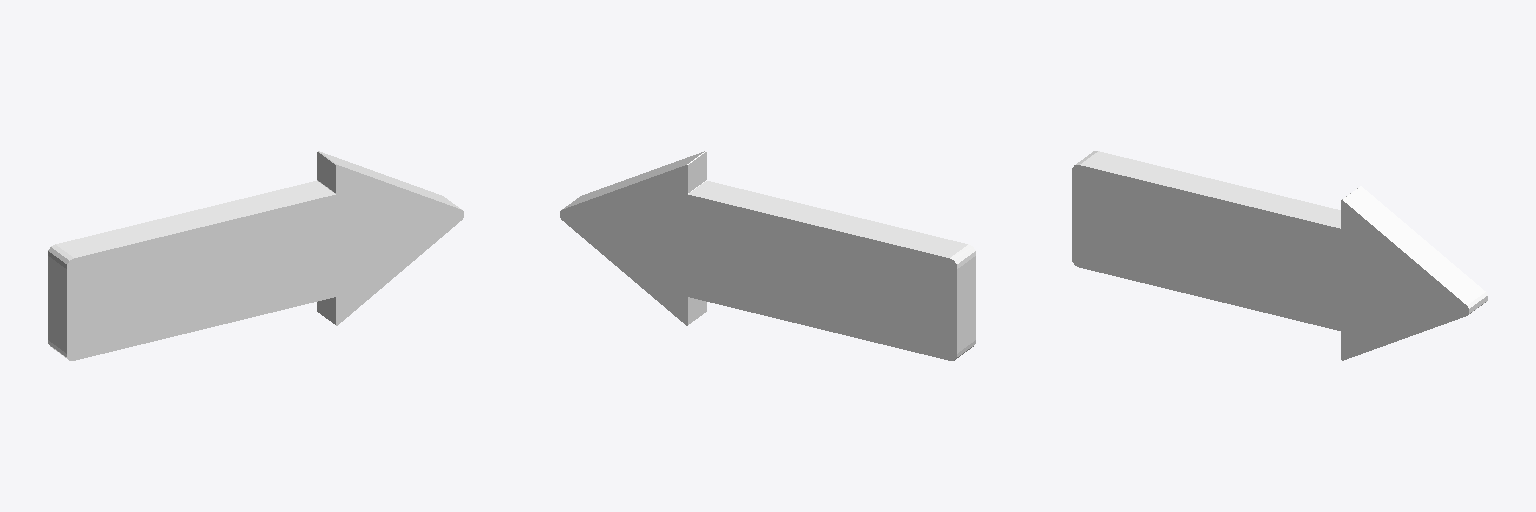
File: Arrow5.obj
The picture shows the model from 3 angles: view 1: azimuth 30°, elevation 25°; view 2: azimuth 150°, elevation 25°; view 3: azimuth 330°, elevation 25°; orthographic projection.
Parts seen in each view (by area): view 1: Arrow5; view 2: Arrow5; view 3: Arrow5.
Boxes of the visible parts, box(x1,y1,x2,y2) form: Arrow5: box(48, 151, 463, 360); Arrow5: box(560, 151, 975, 360); Arrow5: box(1072, 151, 1487, 360).
Bounding box in the file's own units: 0.1545 × 0.0599 × 0.0127.